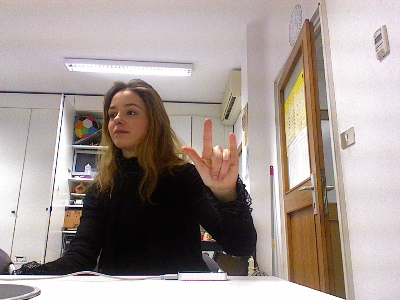我爱你: (179, 117, 240, 190)
